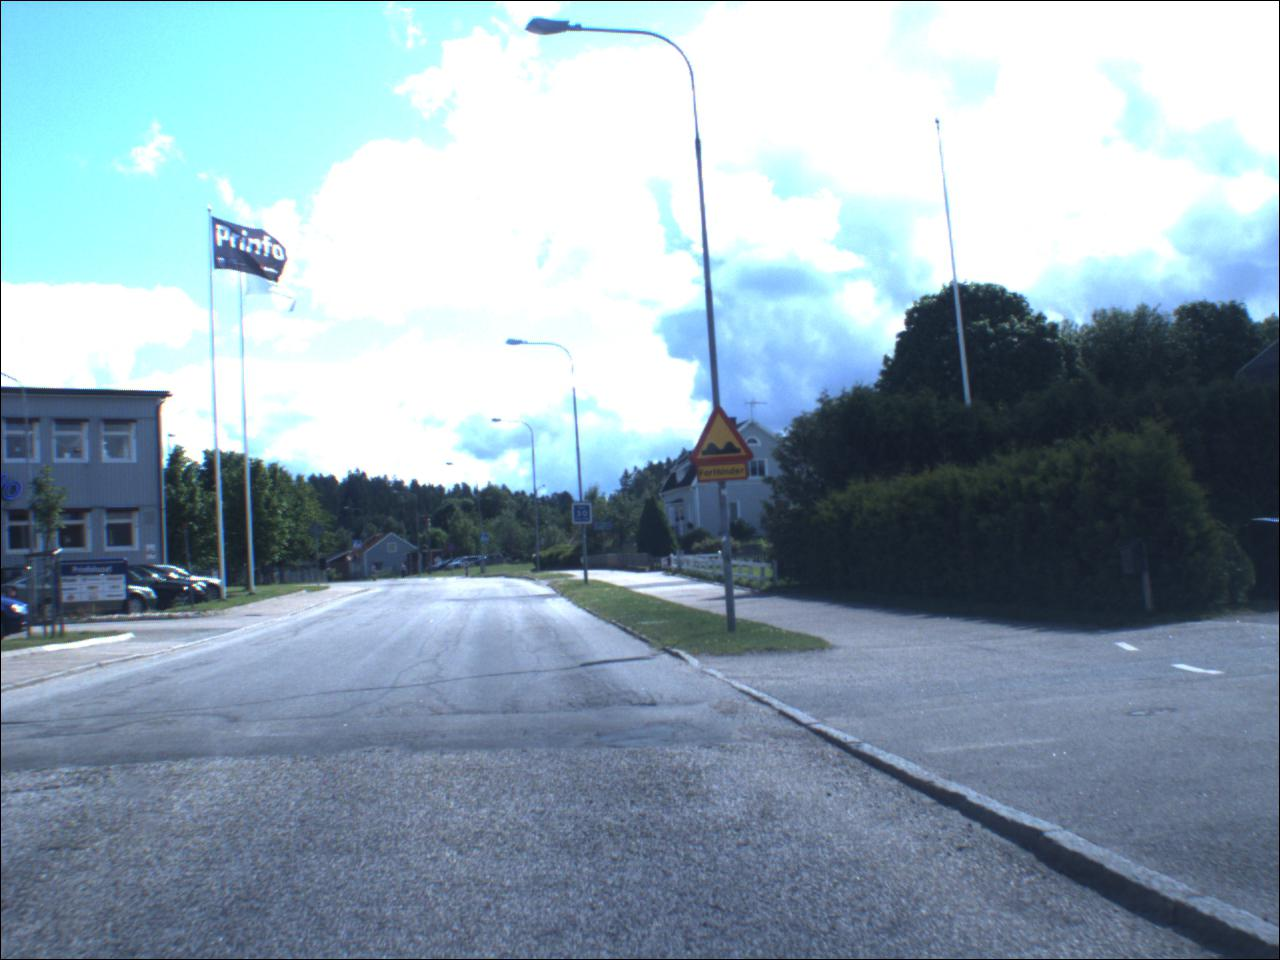WARNING_BAD_ROAD: (690, 400, 756, 470)
